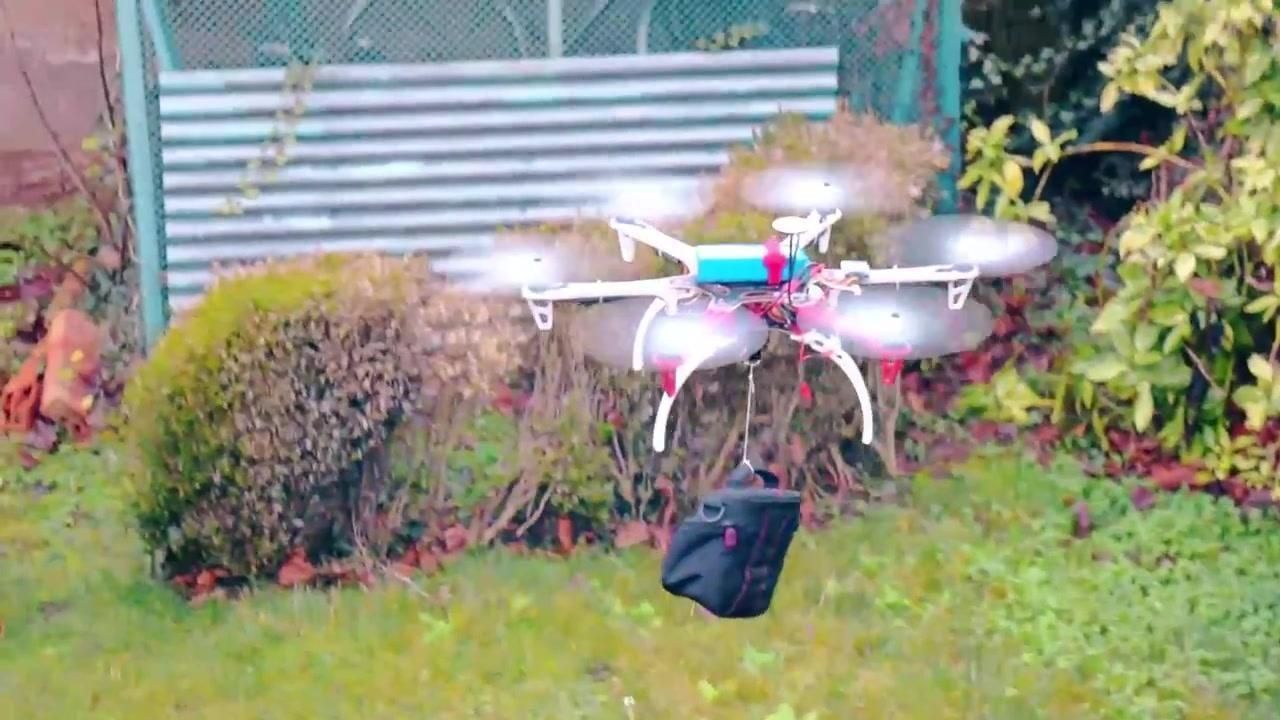UAV: (440, 165, 1059, 456)
